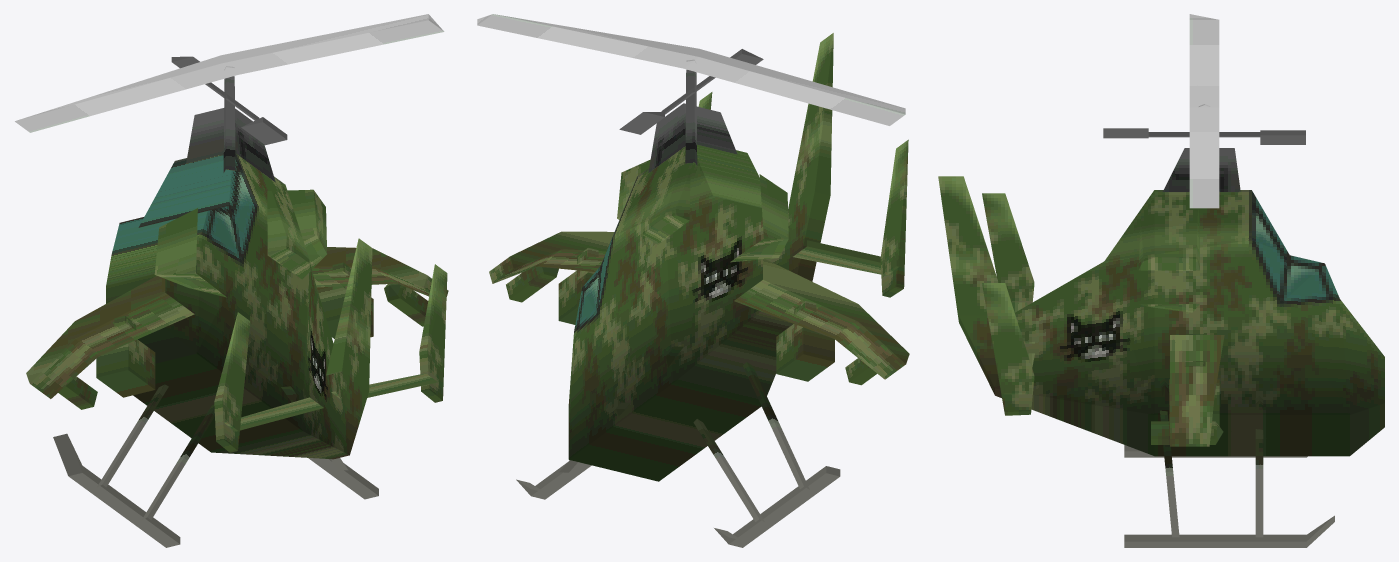
Rendered from ps2_save-icons_simple2000seriesvol35thehelicopter.glb.
3 renders of one model, left to right at view 1: azimuth 30°, elevation 25°; view 2: azimuth 150°, elevation 25°; view 3: azimuth 270°, elevation 25°, orthographic. The views are drawn at different scales.
Parts seen in each view (by area): view 1: hel2.ico; view 2: hel2.ico; view 3: hel2.ico.
Boxes of the visible parts, left/top/right/bottom form: hel2.ico: left=15, top=14, right=448, bottom=547; hel2.ico: left=477, top=14, right=909, bottom=547; hel2.ico: left=938, top=14, right=1384, bottom=547.
Bounding box in the file's own units: 2.52 × 2.49 × 2.52.
1 material, 1 textured.
